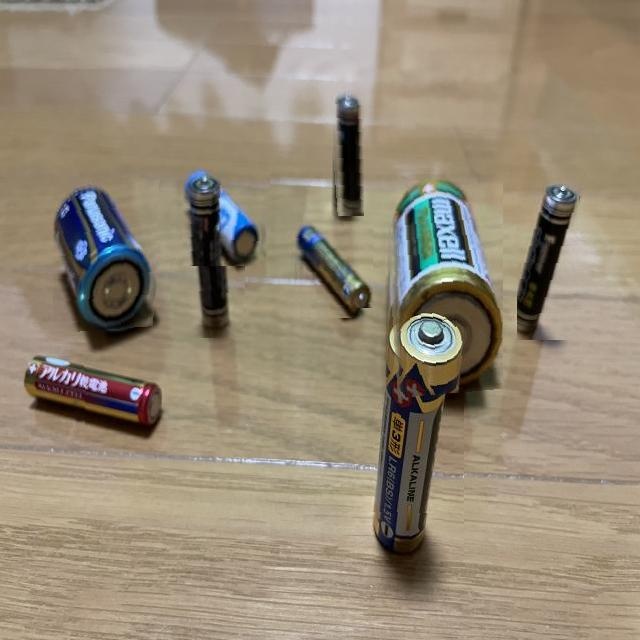battery: (356, 308, 464, 560), (383, 174, 503, 398), (53, 178, 160, 334), (171, 170, 248, 338), (17, 354, 168, 439), (518, 169, 582, 340), (184, 162, 272, 266), (292, 221, 373, 319), (328, 83, 364, 216)
